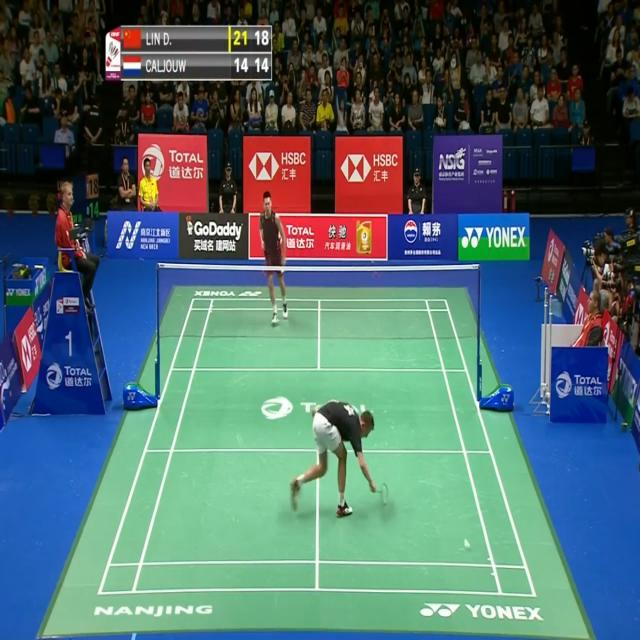Player1: (285, 390, 395, 524)
Player2: (257, 183, 295, 332)
